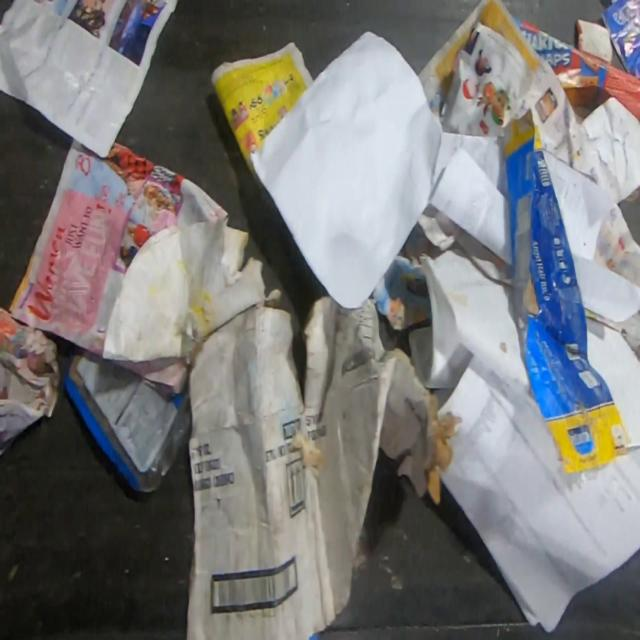cardboard: (184, 288, 463, 640), (496, 106, 632, 474), (514, 17, 640, 122)
soft_plastic: (62, 344, 188, 494)
